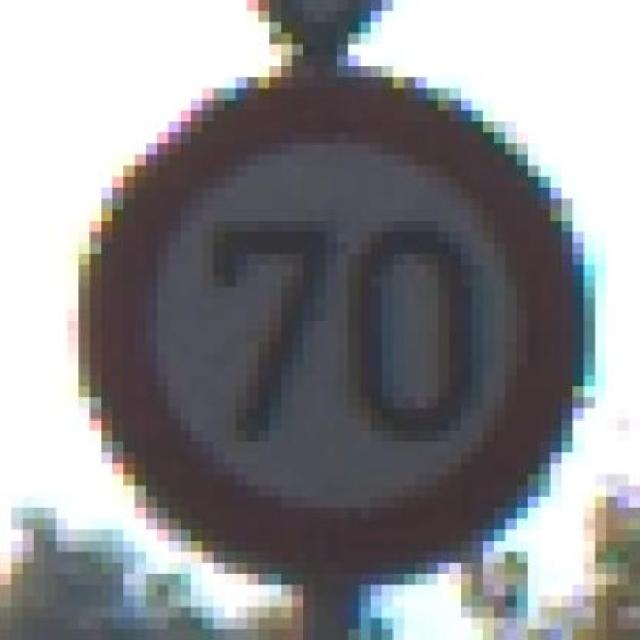forb_speed_over_70: (96, 80, 579, 580)
